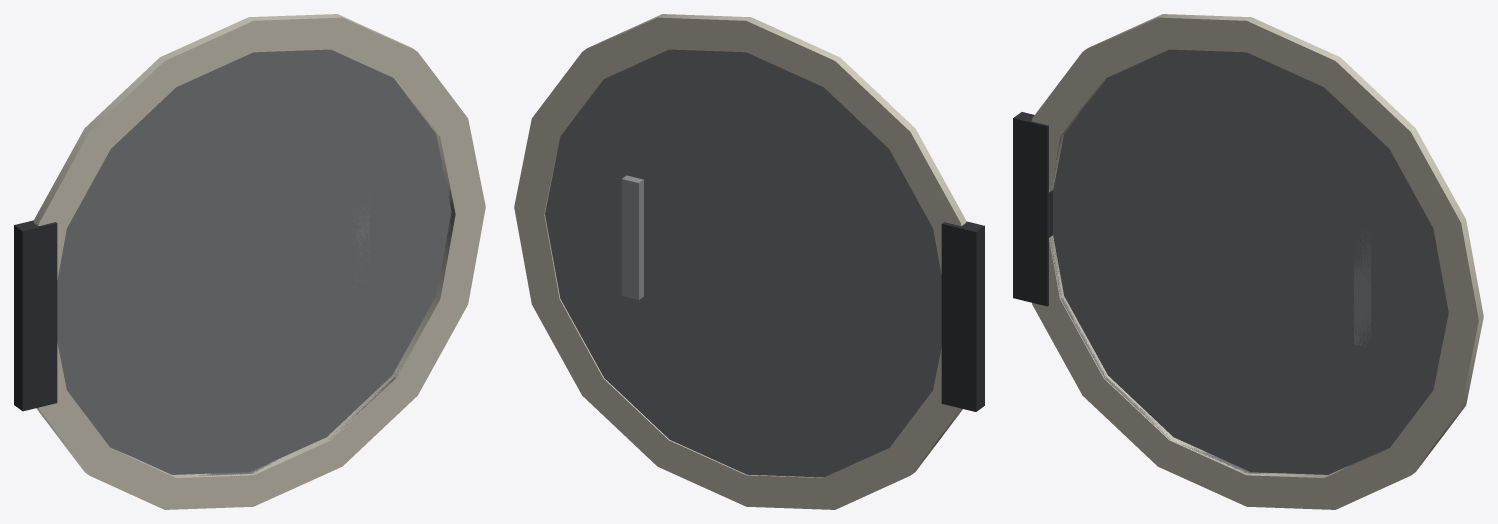
File: ec2_hatch_seal.obj
The picture shows the model from 3 angles, left to right: view 1: azimuth 30°, elevation 25°; view 2: azimuth 150°, elevation 25°; view 3: azimuth 330°, elevation 25°; orthographic projection.
Visible parts, largest first — view 1: ec2_hatch_seal; view 2: ec2_hatch_seal; view 3: ec2_hatch_seal.
Part boxes in pixels (bbox=[...]): ec2_hatch_seal: bbox=[14, 14, 485, 509]; ec2_hatch_seal: bbox=[514, 14, 984, 509]; ec2_hatch_seal: bbox=[1013, 14, 1483, 509].
Size of the model in its own units: 1.08 by 1.08 by 0.0425.
